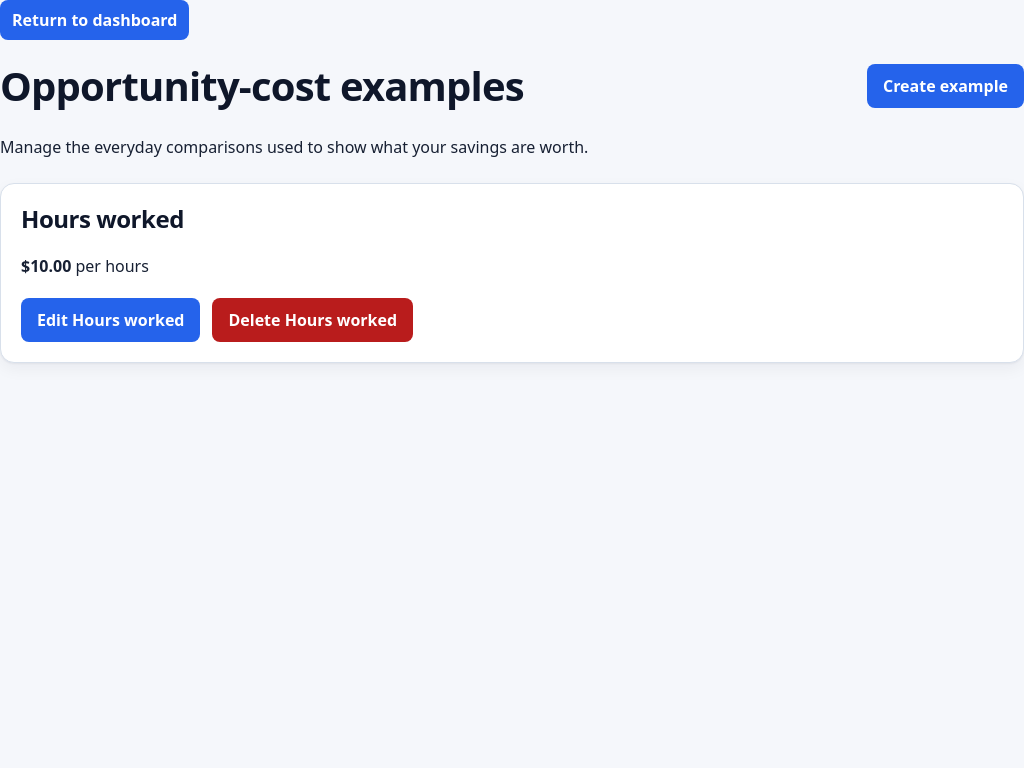
Test case: OpportunityCostSettingsPage › prefills and edits the selected stable ID through PATCH
Click the button "Edit Hours worked" at (111, 320), box [21,298,200,342]
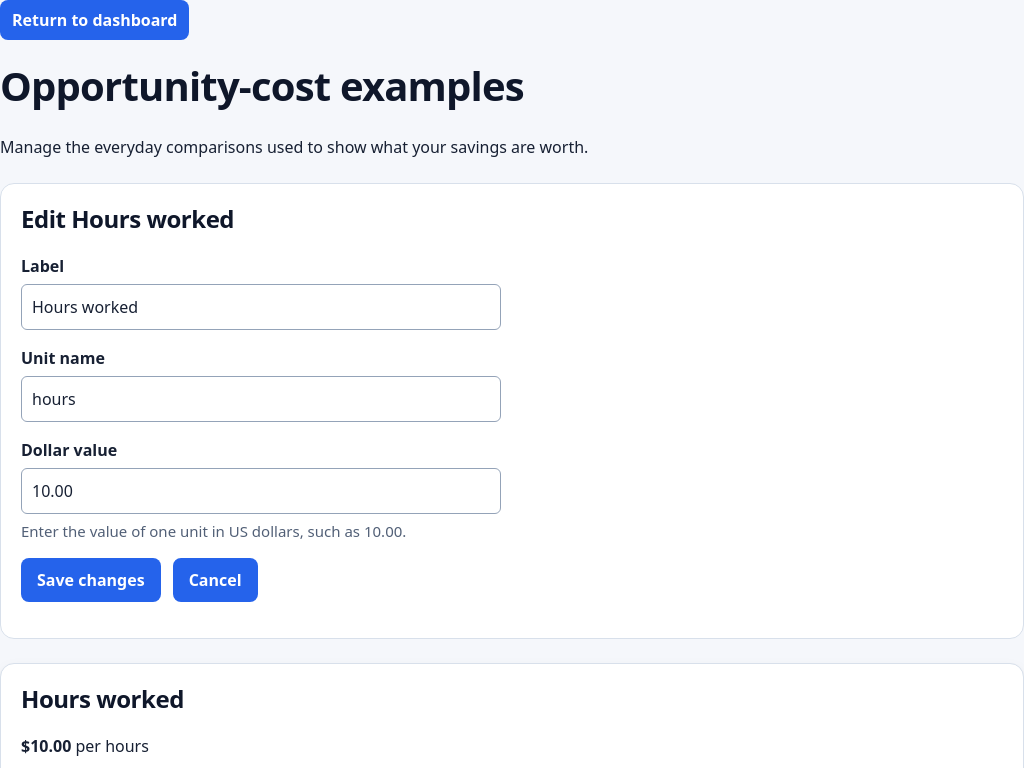
Expected: the field labelled "Dollar value" holds "10.00", [21,468,501,514]
Replace the text in the field labelled "Label" with "Coffee made at home" at (261, 307), box [21,284,501,330]
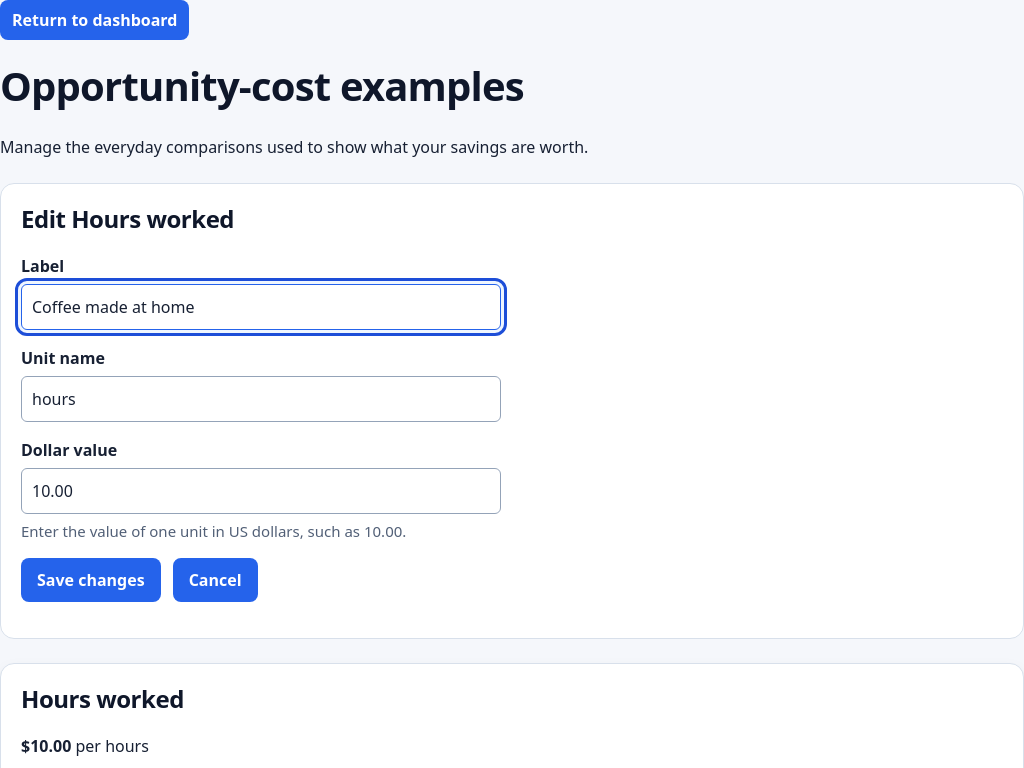
Replace the text in the field labelled "Unit name" with "cups" at (261, 399), box [21,376,501,422]
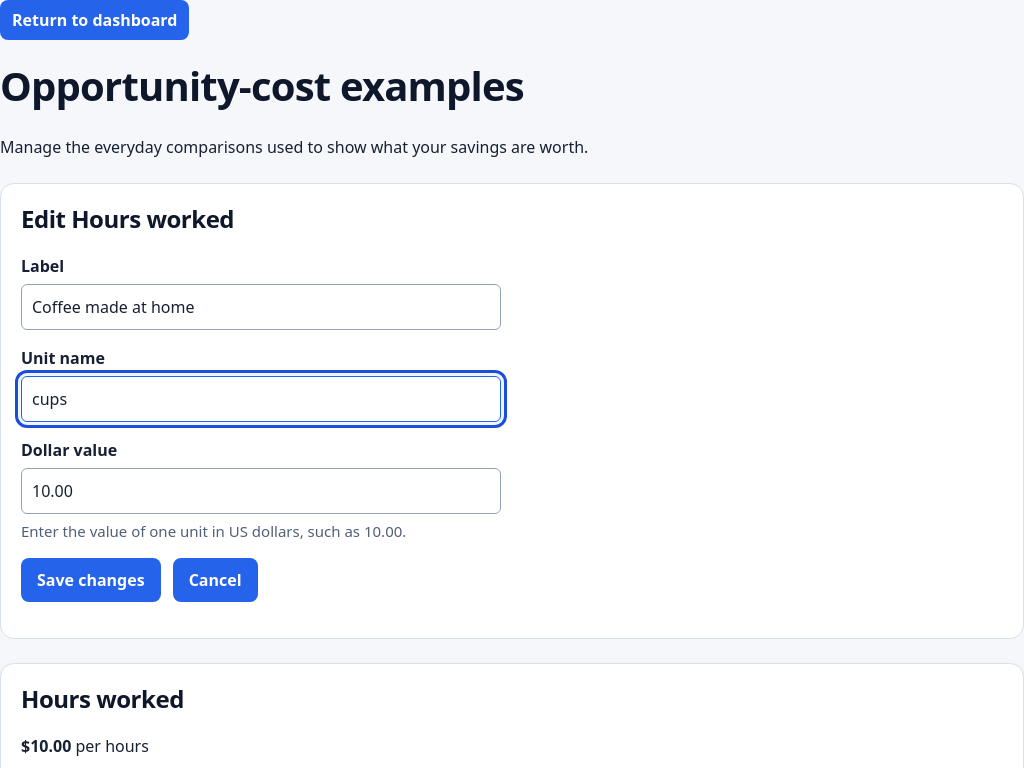
Replace the text in the field labelled "Dollar value" with "4.50" at (261, 491), box [21,468,501,514]
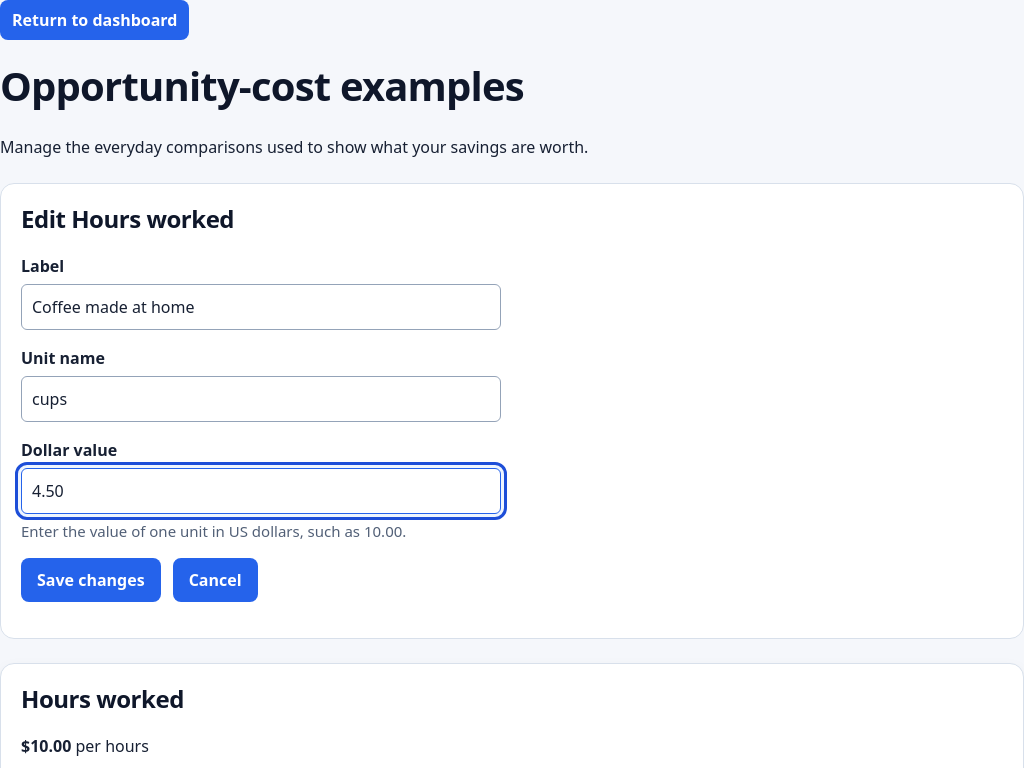
Click the button "Save changes" at (91, 580), box [21,558,161,602]
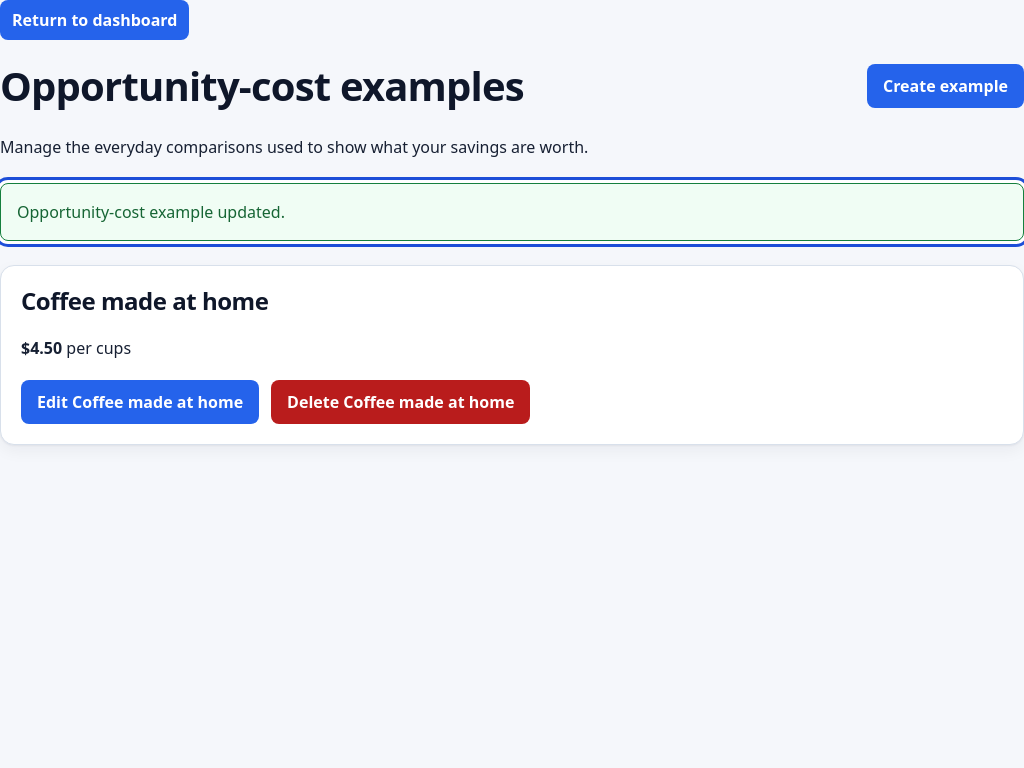
Expected: the heading "Coffee made at home" is shown, [21,284,268,317]
